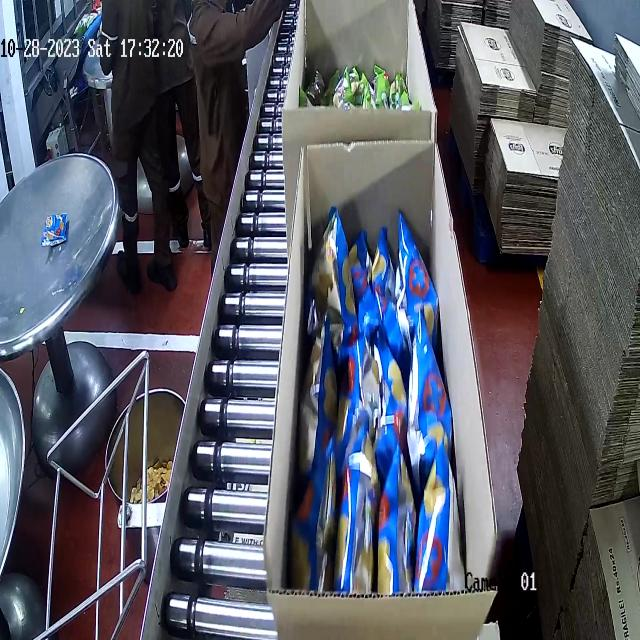PAPRIKA: (307, 211, 453, 623)
